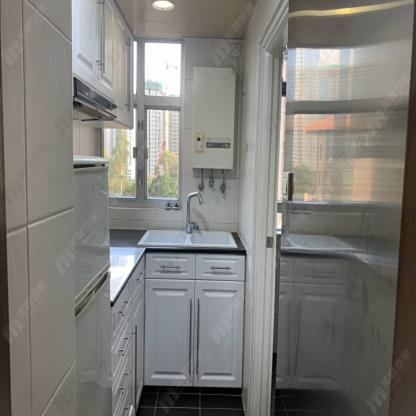Cupboard: (110, 249, 247, 416), (71, 0, 135, 125)
Exhaust Hood: (72, 79, 118, 122)
Faucet: (182, 188, 204, 233)
Fridge: (72, 153, 112, 416)
Sink: (140, 229, 237, 247)
